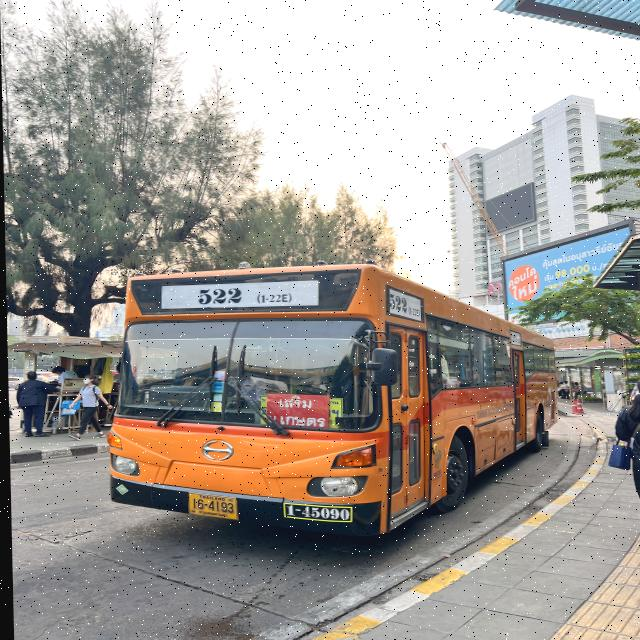BMTA-bus: (103, 264, 557, 539)
Bus Line Number: (181, 280, 295, 308)
Bus Side Number: (276, 503, 351, 523)
Destination Sign: (264, 394, 326, 429)
